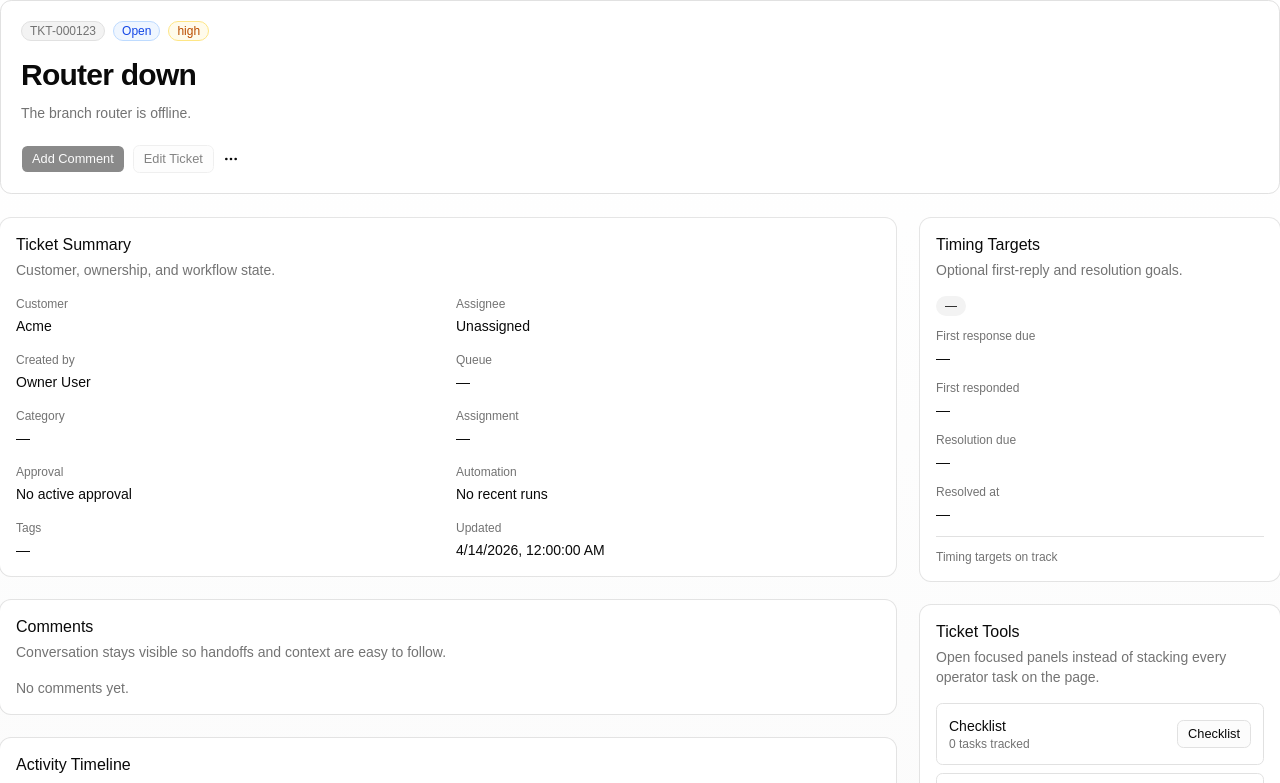
Test case: ticket route permission states › keeps ticket lifecycle actions disabled for view-only roles on ticket details
Check: the heading "Router down" is shown, box [21,58,196,91]
Click the button named "More actions for TKT-000123". click: [231, 159]
box: [222,145,240,173]
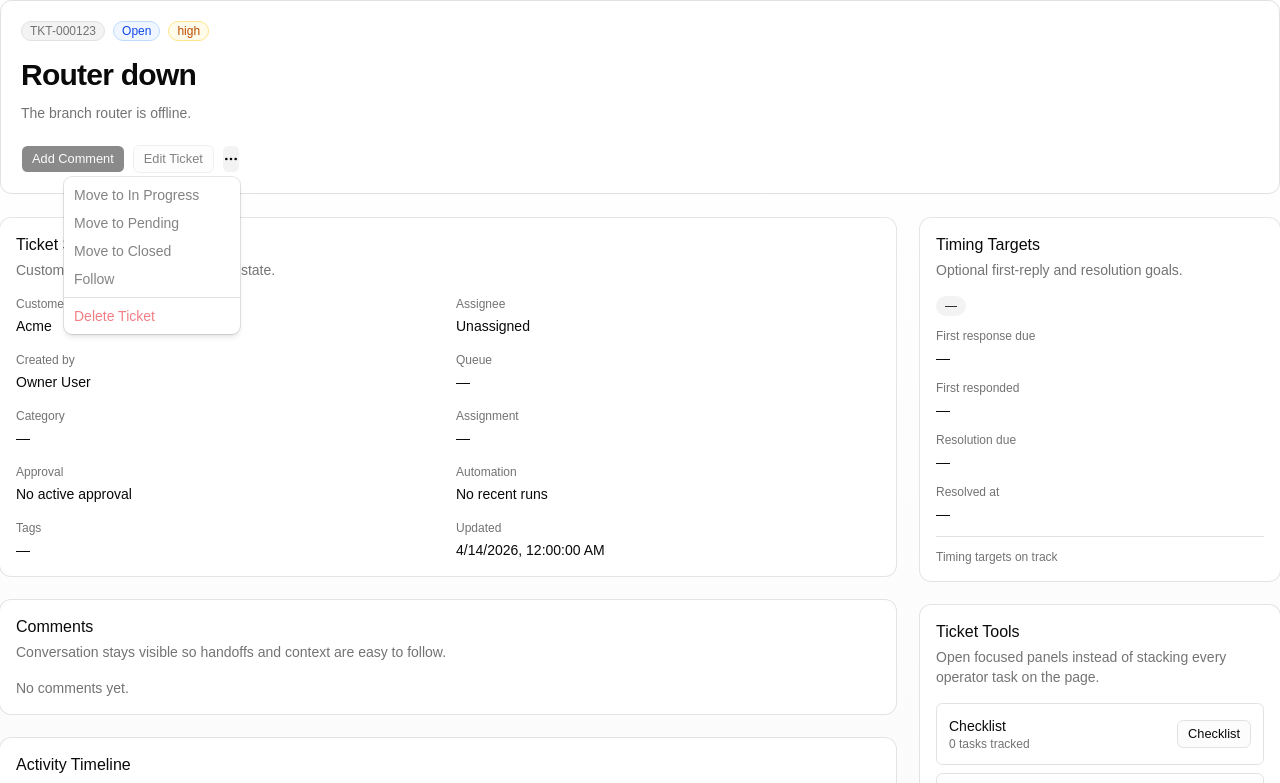
Check: the button "Edit Ticket" is disabled, box [133,145,214,173]
Check: the menu item "Move to In Progress" is shown, box [74,187,199,203]
